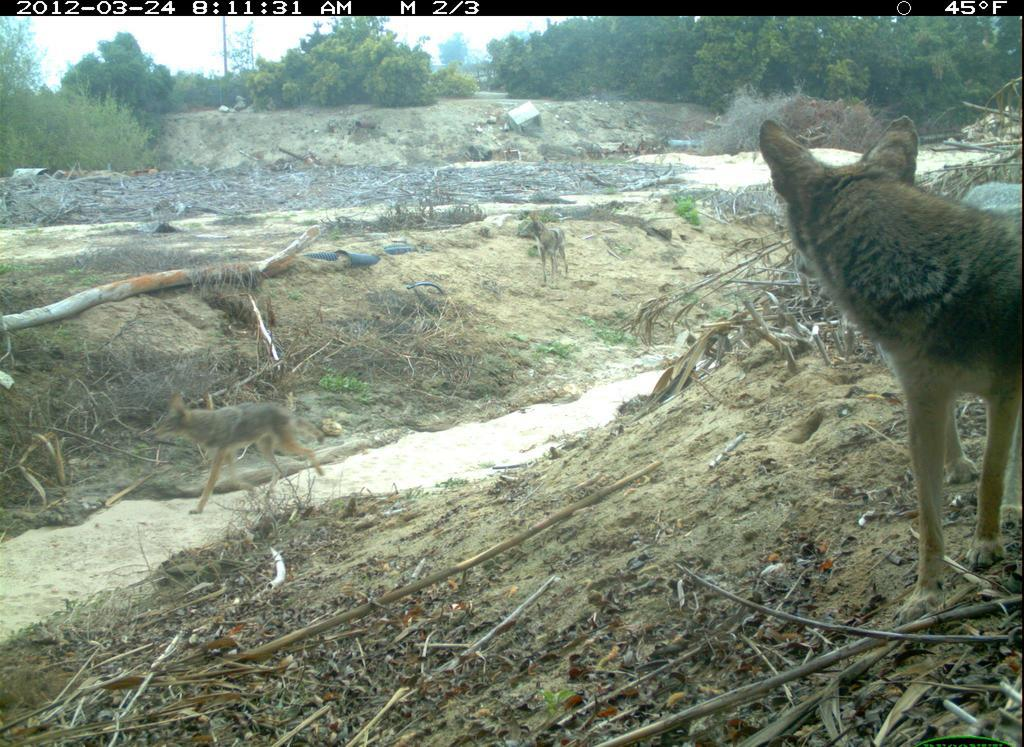coyote: (757, 111, 1023, 621), (146, 399, 337, 514), (501, 212, 579, 294)
